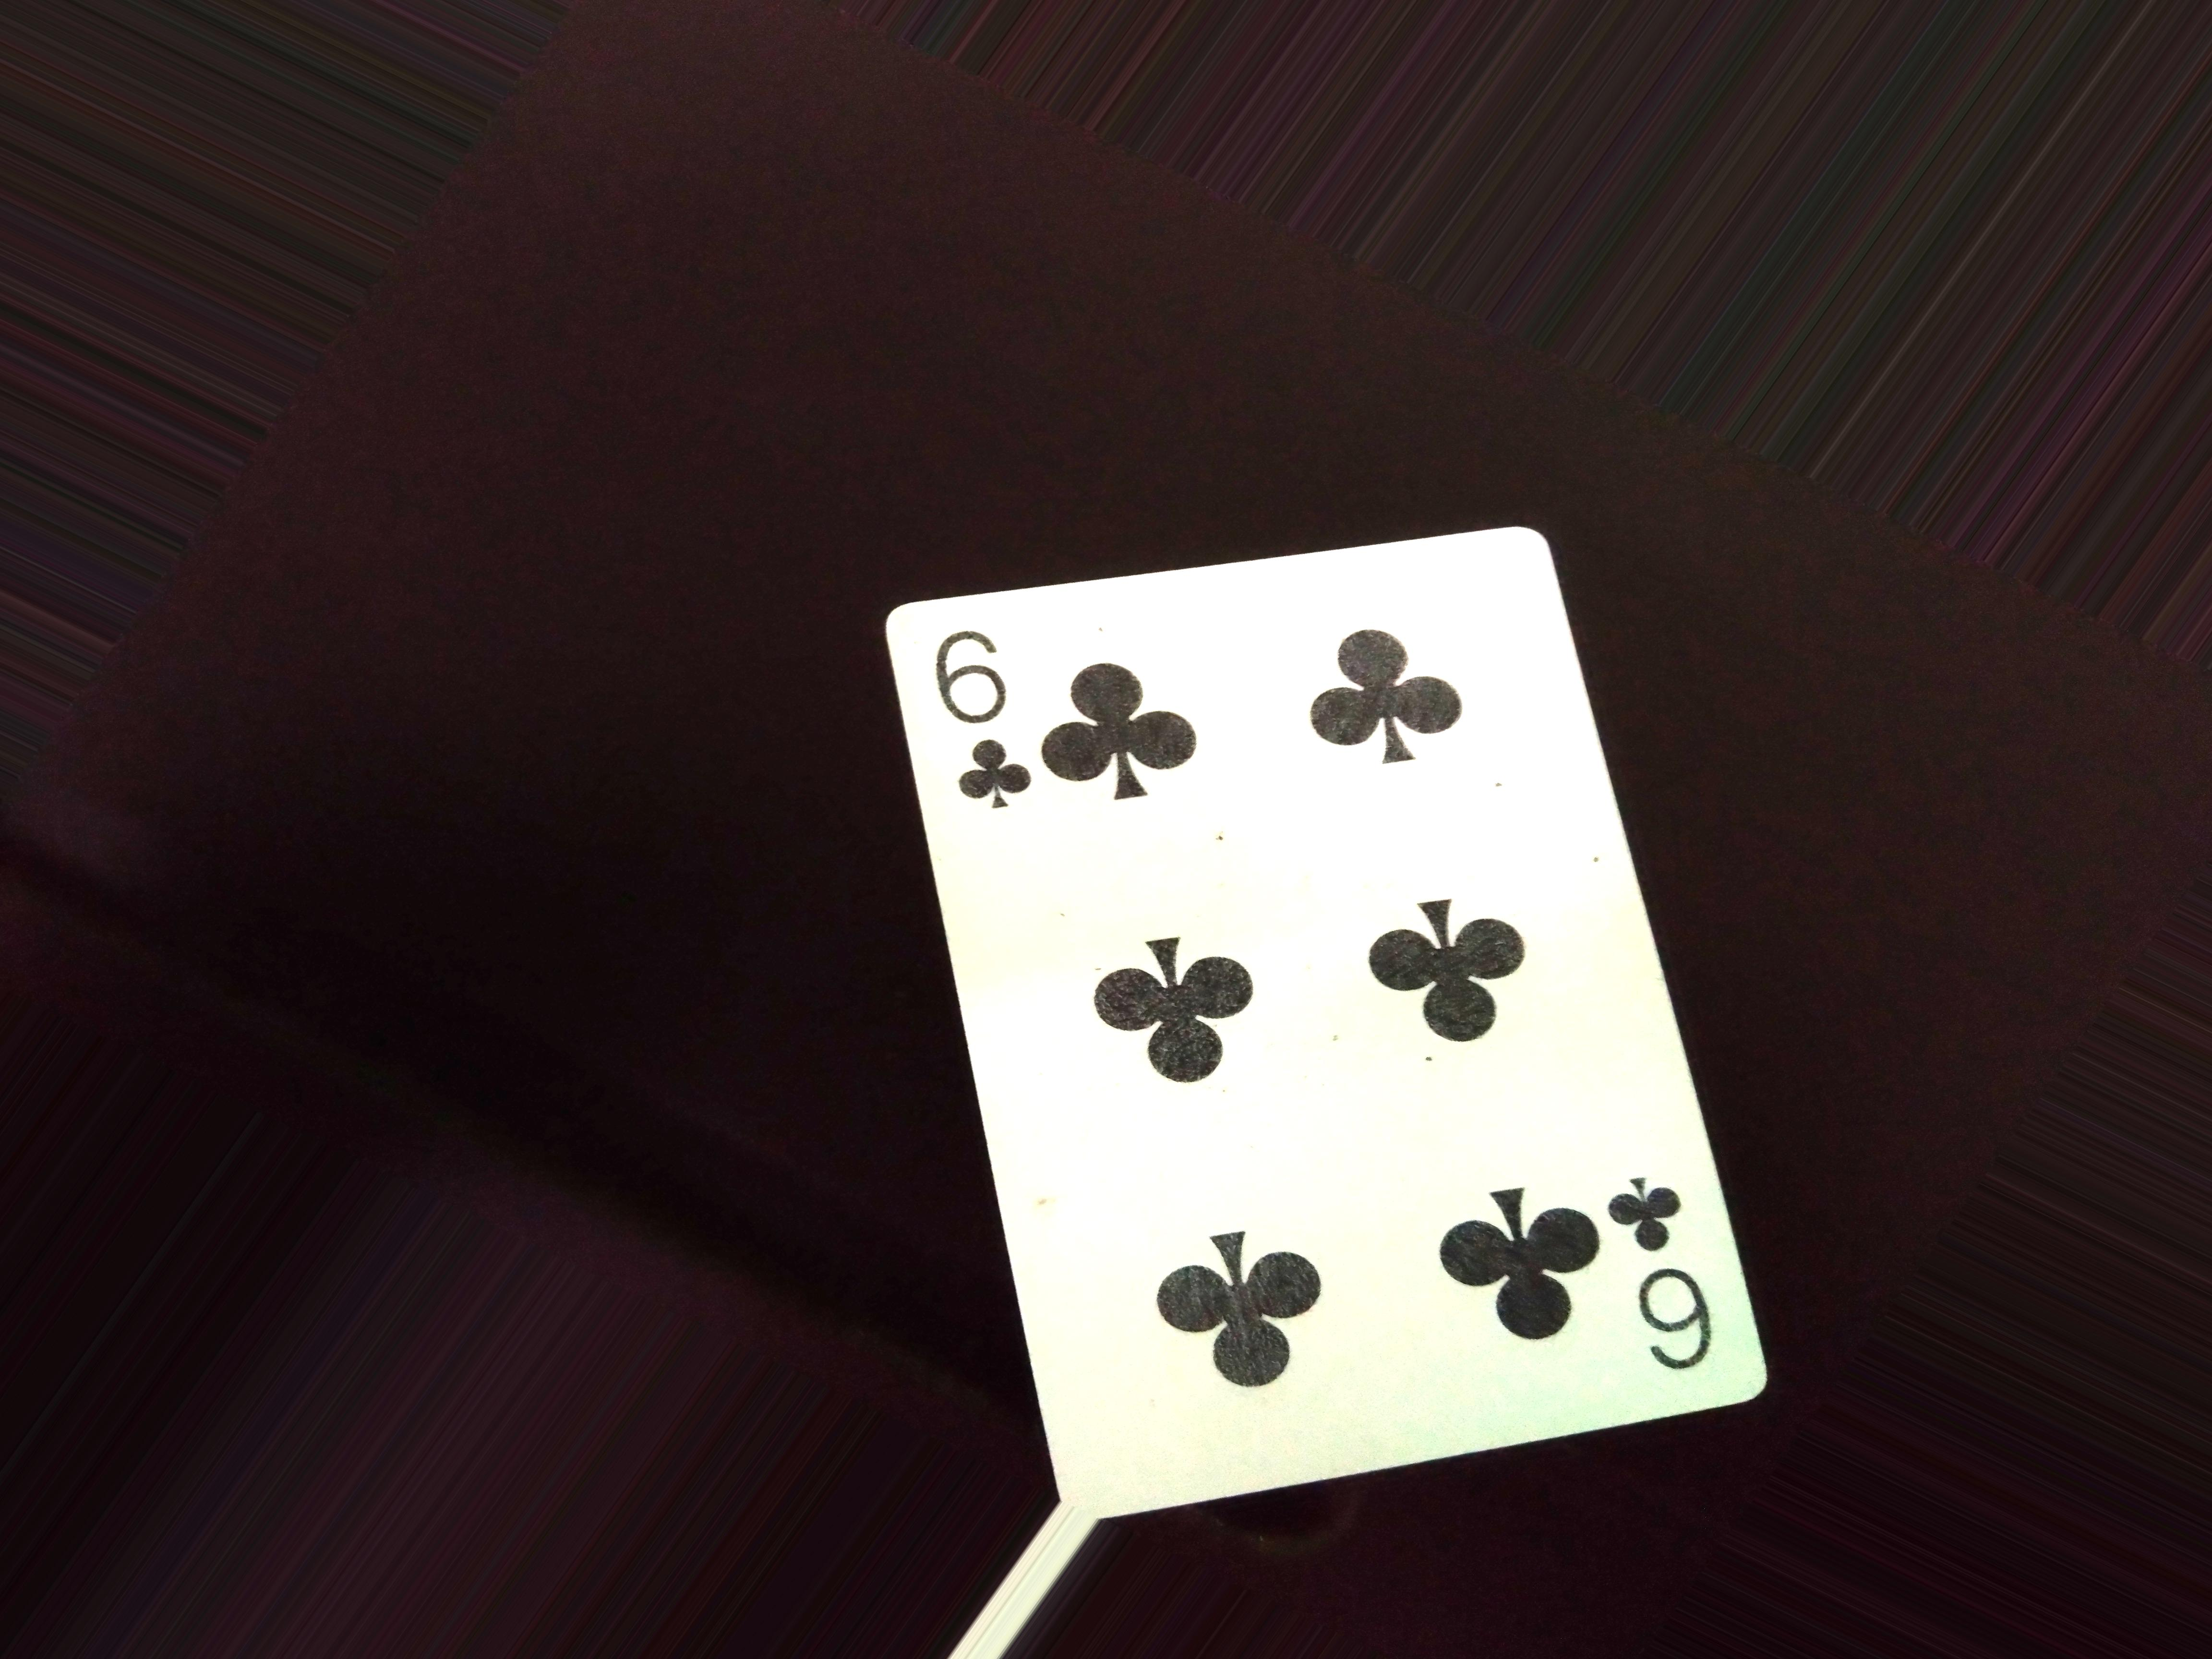6C: (934, 620, 1040, 821)
